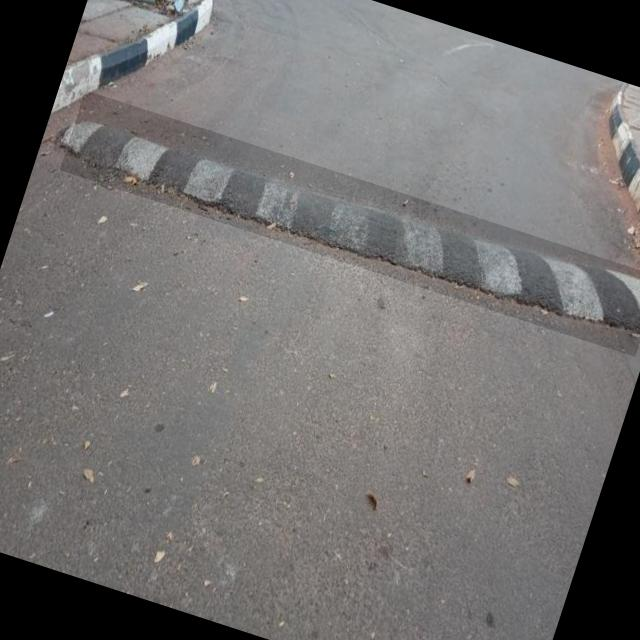bump: (59, 90, 640, 357)
